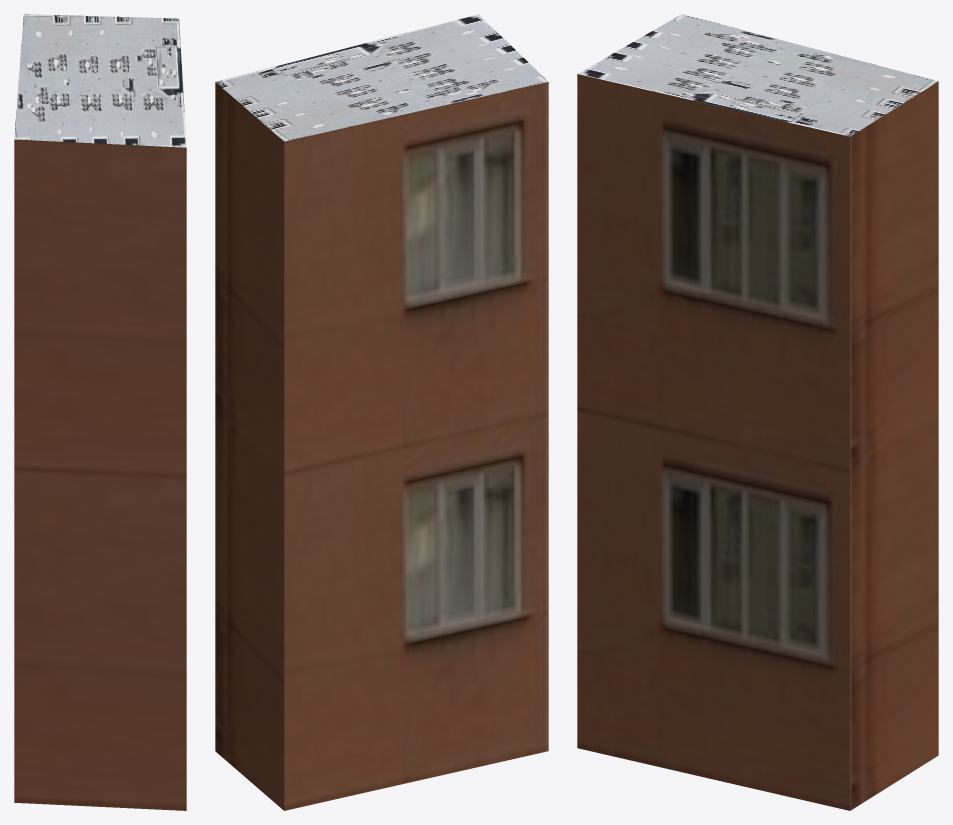
The model's file is ResTex__1881.fbx.
3 renders of one model, left to right at view 1: azimuth 30°, elevation 25°; view 2: azimuth 150°, elevation 25°; view 3: azimuth 270°, elevation 25°, orthographic.
Parts seen in each view (by area): view 1: CityEngineMaterial_20_m, CityEngineMaterial_m; view 2: CityEngineMaterial_20_m, CityEngineMaterial_m; view 3: CityEngineMaterial_20_m, CityEngineMaterial_m.
Part boxes in pixels (x1,y1,x2,y2): CityEngineMaterial_20_m: (14,139,186,810); CityEngineMaterial_m: (14,14,186,147); CityEngineMaterial_20_m: (215,82,548,810); CityEngineMaterial_m: (216,14,548,141); CityEngineMaterial_20_m: (577,74,938,810); CityEngineMaterial_m: (578,14,937,136).
Size of the model in its own units: 2.34 by 6 by 2.91.
2 materials, 2 textured.
